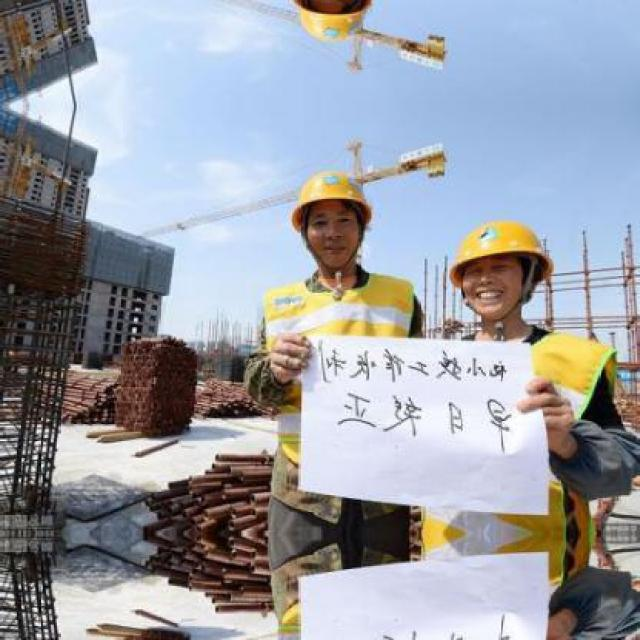Reflective-Jacket: (417, 324, 628, 552), (255, 267, 423, 492)
Safety-Helmet: (439, 210, 563, 285), (282, 162, 382, 225)
